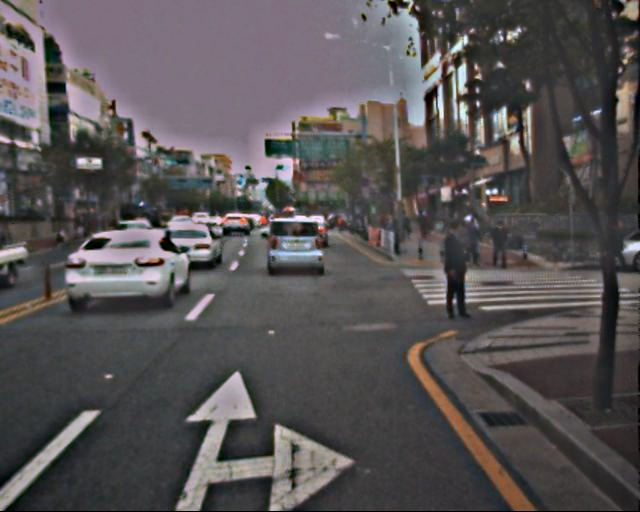person: (435, 219, 476, 318), (606, 216, 629, 271), (459, 209, 480, 261), (489, 217, 510, 269)
